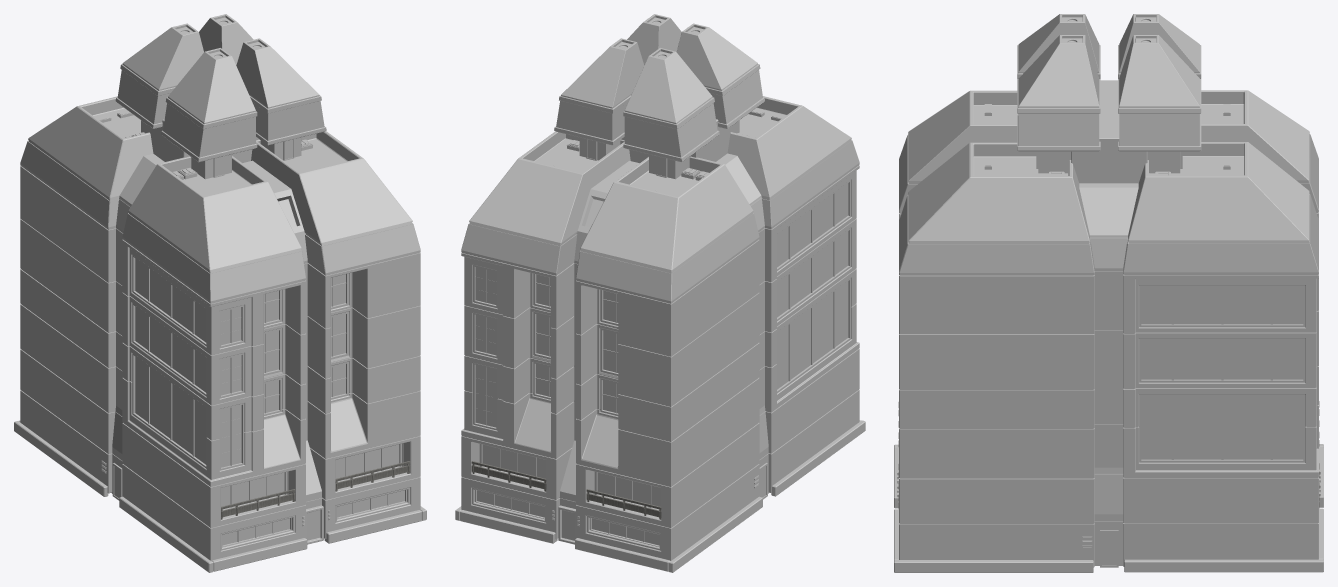
The model's file is Kitbash3D_Brutalist_Building04.fbx.
The picture shows the model from 3 angles, left to right: view 1: azimuth 30°, elevation 25°; view 2: azimuth 150°, elevation 25°; view 3: azimuth 270°, elevation 25°; orthographic projection. The views are drawn at different scales.
Visible parts, largest first — view 1: M_Sm_Bldg_B_Ver1_ConcFormHoles, M_Sm_Bldg_B_Ver1_WindowsGlass, M_Sm_Bldg_B_Ver1_Mull_WinPods, M_Sm_Bldg_B_Ver1_Conc_Railing, M_Sm_Bldg_B_Door, M_Sm_Bldg_B_Ver1_Props_Details; view 2: M_Sm_Bldg_B_Ver1_ConcFormHoles, M_Sm_Bldg_B_Ver1_WindowsGlass, M_Sm_Bldg_B_Ver1_Mull_WinPods, M_Sm_Bldg_B_Ver1_Conc_Railing, M_Sm_Bldg_B_Door, M_Sm_Bldg_B_Ver1_Props_Details; view 3: M_Sm_Bldg_B_Ver1_ConcFormHoles, M_Sm_Bldg_B_Ver1_WindowsGlass, M_Sm_Bldg_B_Ver1_Mull_WinPods, M_Sm_Bldg_B_Ver1_Props_Details, M_Sm_Bldg_B_Door.
Part boxes in pixels (<box>): M_Sm_Bldg_B_Ver1_ConcFormHoles: <box>14,14,426,572</box>; M_Sm_Bldg_B_Ver1_WindowsGlass: <box>135,22,404,545</box>; M_Sm_Bldg_B_Ver1_Mull_WinPods: <box>132,255,406,547</box>; M_Sm_Bldg_B_Ver1_Conc_Railing: <box>221,461,410,519</box>; M_Sm_Bldg_B_Door: <box>112,139,294,500</box>; M_Sm_Bldg_B_Ver1_Props_Details: <box>97,110,330,526</box>; M_Sm_Bldg_B_Ver1_ConcFormHoles: <box>455,14,865,572</box>; M_Sm_Bldg_B_Ver1_WindowsGlass: <box>475,22,848,545</box>; M_Sm_Bldg_B_Ver1_Mull_WinPods: <box>472,180,851,547</box>; M_Sm_Bldg_B_Ver1_Conc_Railing: <box>471,461,661,519</box>; M_Sm_Bldg_B_Door: <box>586,139,767,499</box>; M_Sm_Bldg_B_Ver1_Props_Details: <box>538,109,783,526</box>; M_Sm_Bldg_B_Ver1_ConcFormHoles: <box>894,14,1323,572</box>; M_Sm_Bldg_B_Ver1_WindowsGlass: <box>1068,20,1303,459</box>; M_Sm_Bldg_B_Ver1_Mull_WinPods: <box>1139,285,1305,462</box>; M_Sm_Bldg_B_Ver1_Props_Details: <box>897,104,1320,547</box>; M_Sm_Bldg_B_Door: <box>1036,151,1182,567</box>.
Bounding box in the file's own units: 12.41 × 23.73 × 19.03.
